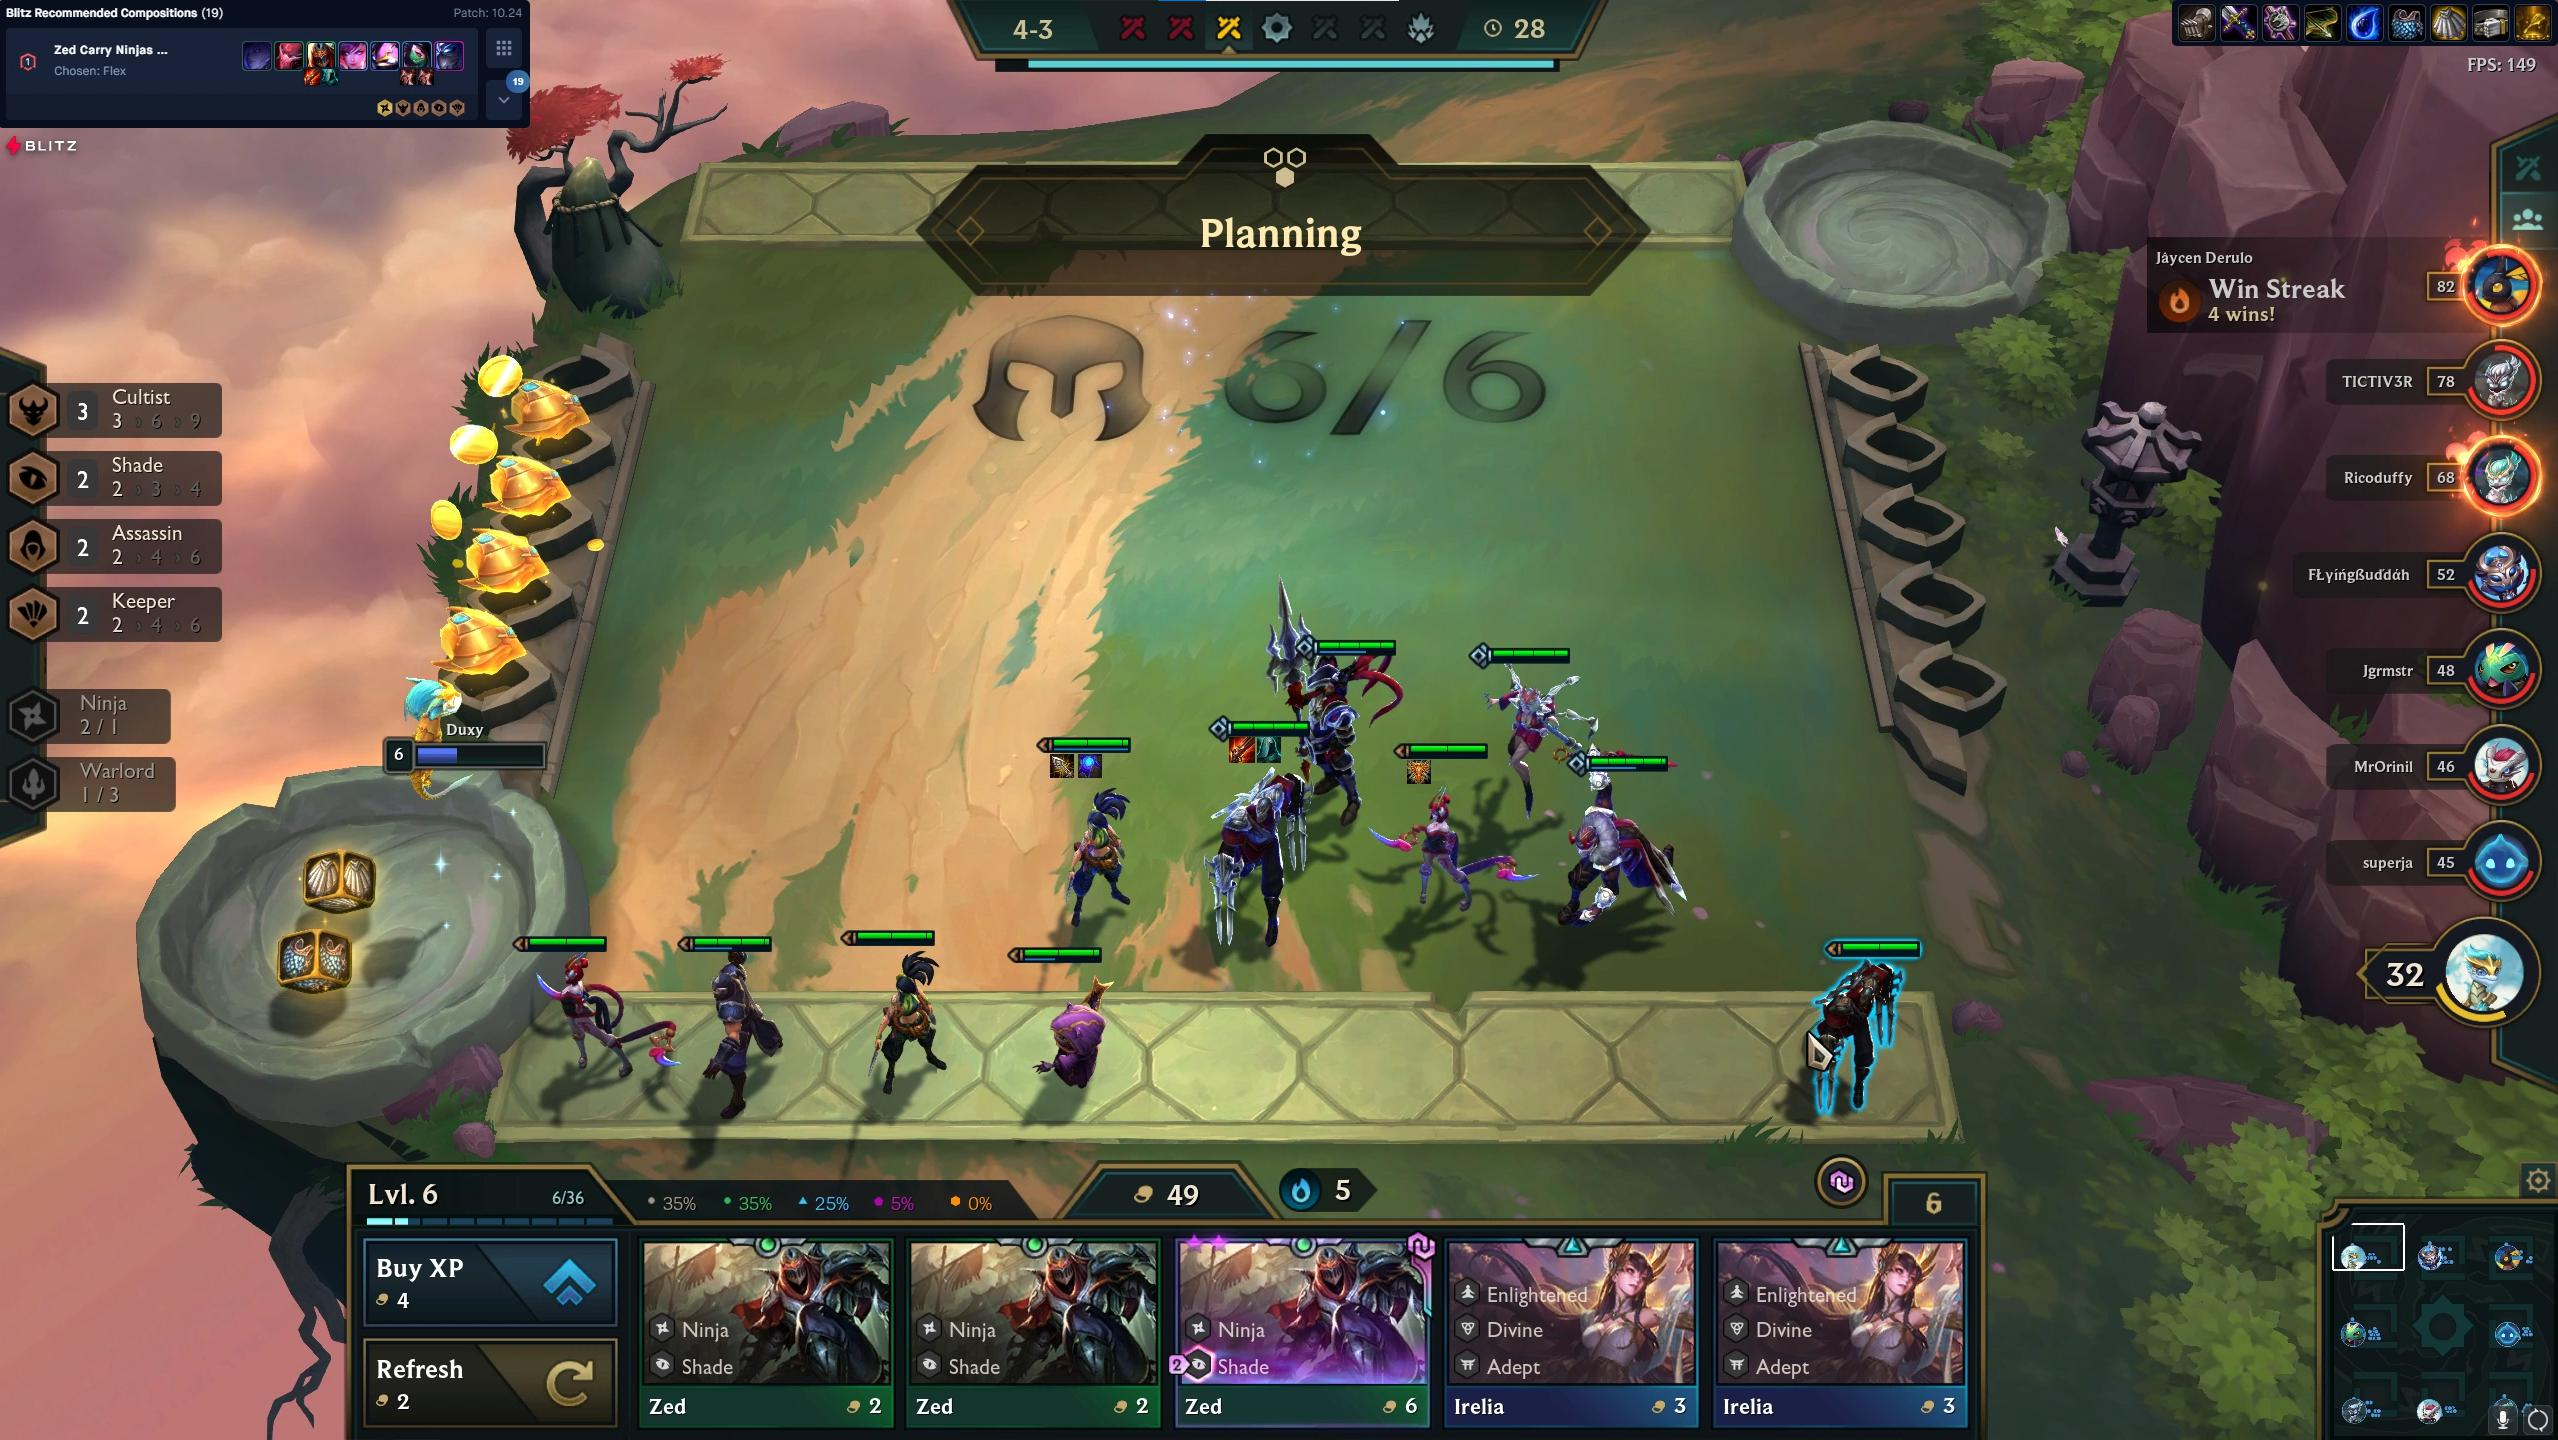1star_akali: (822, 910, 959, 1154), (1024, 718, 1151, 966)
1star_evelynn: (501, 901, 687, 1140), (1356, 731, 1516, 968)
1star_kennen: (1001, 931, 1116, 1133)
1star_shen: (668, 917, 794, 1170)
1star_zed: (1771, 911, 1948, 1141)
2star_elise: (1444, 625, 1622, 866)
2star_jarvaniv: (1244, 571, 1418, 880)
2star_pyke: (1516, 732, 1694, 999)
2star_zed: (1175, 711, 1332, 978)
item_bluebuff: (1073, 748, 1107, 781)
item_ie: (1044, 746, 1079, 783)
item_locket: (1397, 748, 1441, 790)
item_quicksilver: (1249, 725, 1290, 771)
item_rfc: (1221, 729, 1261, 769)
trait_assassin2: (2, 509, 230, 580)
trait_cultist3: (2, 372, 230, 444)
trait_keeper2: (2, 578, 230, 648)
trait_ninja2: (2, 678, 230, 750)
trait_shade2: (2, 441, 230, 513)
trait_warlord1: (2, 746, 230, 817)
